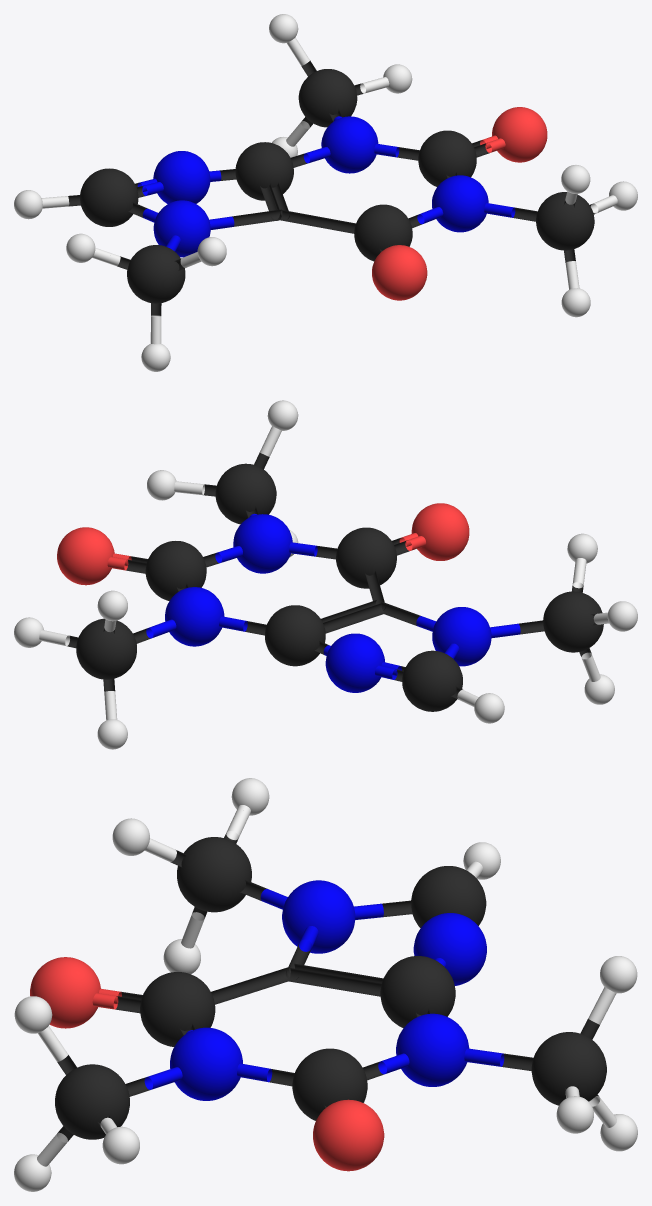
The model's file is caffeine_chemical_structure.glb.
3 renders of one model, top to bottom at view 1: azimuth 30°, elevation 25°; view 2: azimuth 150°, elevation 25°; view 3: azimuth 270°, elevation 25°, orthographic. The views are drawn at different scales.
Parts seen in each view (by area): view 1: Molecule_0; view 2: Molecule_0; view 3: Molecule_0.
Part boxes in pixels (x1,y1,x2,y2): Molecule_0: [14, 14, 637, 371]; Molecule_0: [14, 400, 637, 749]; Molecule_0: [14, 778, 637, 1191].
Size of the model in its own units: 7.84 by 2.3 by 6.37.
